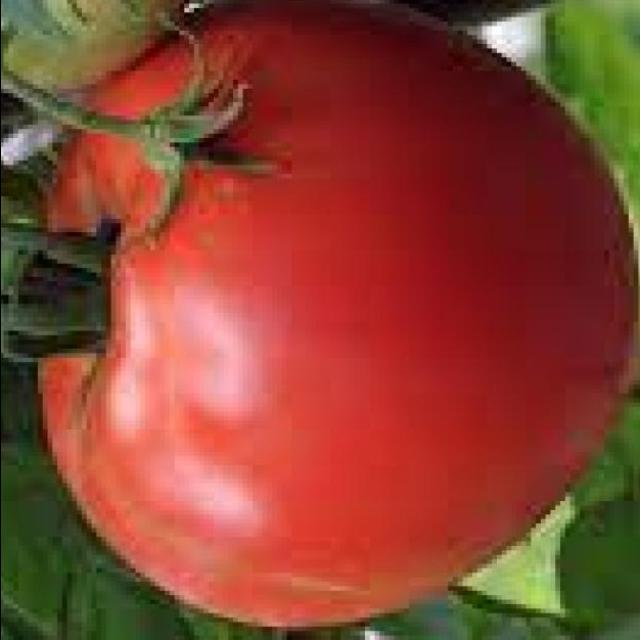Healthy: (12, 1, 632, 628)
